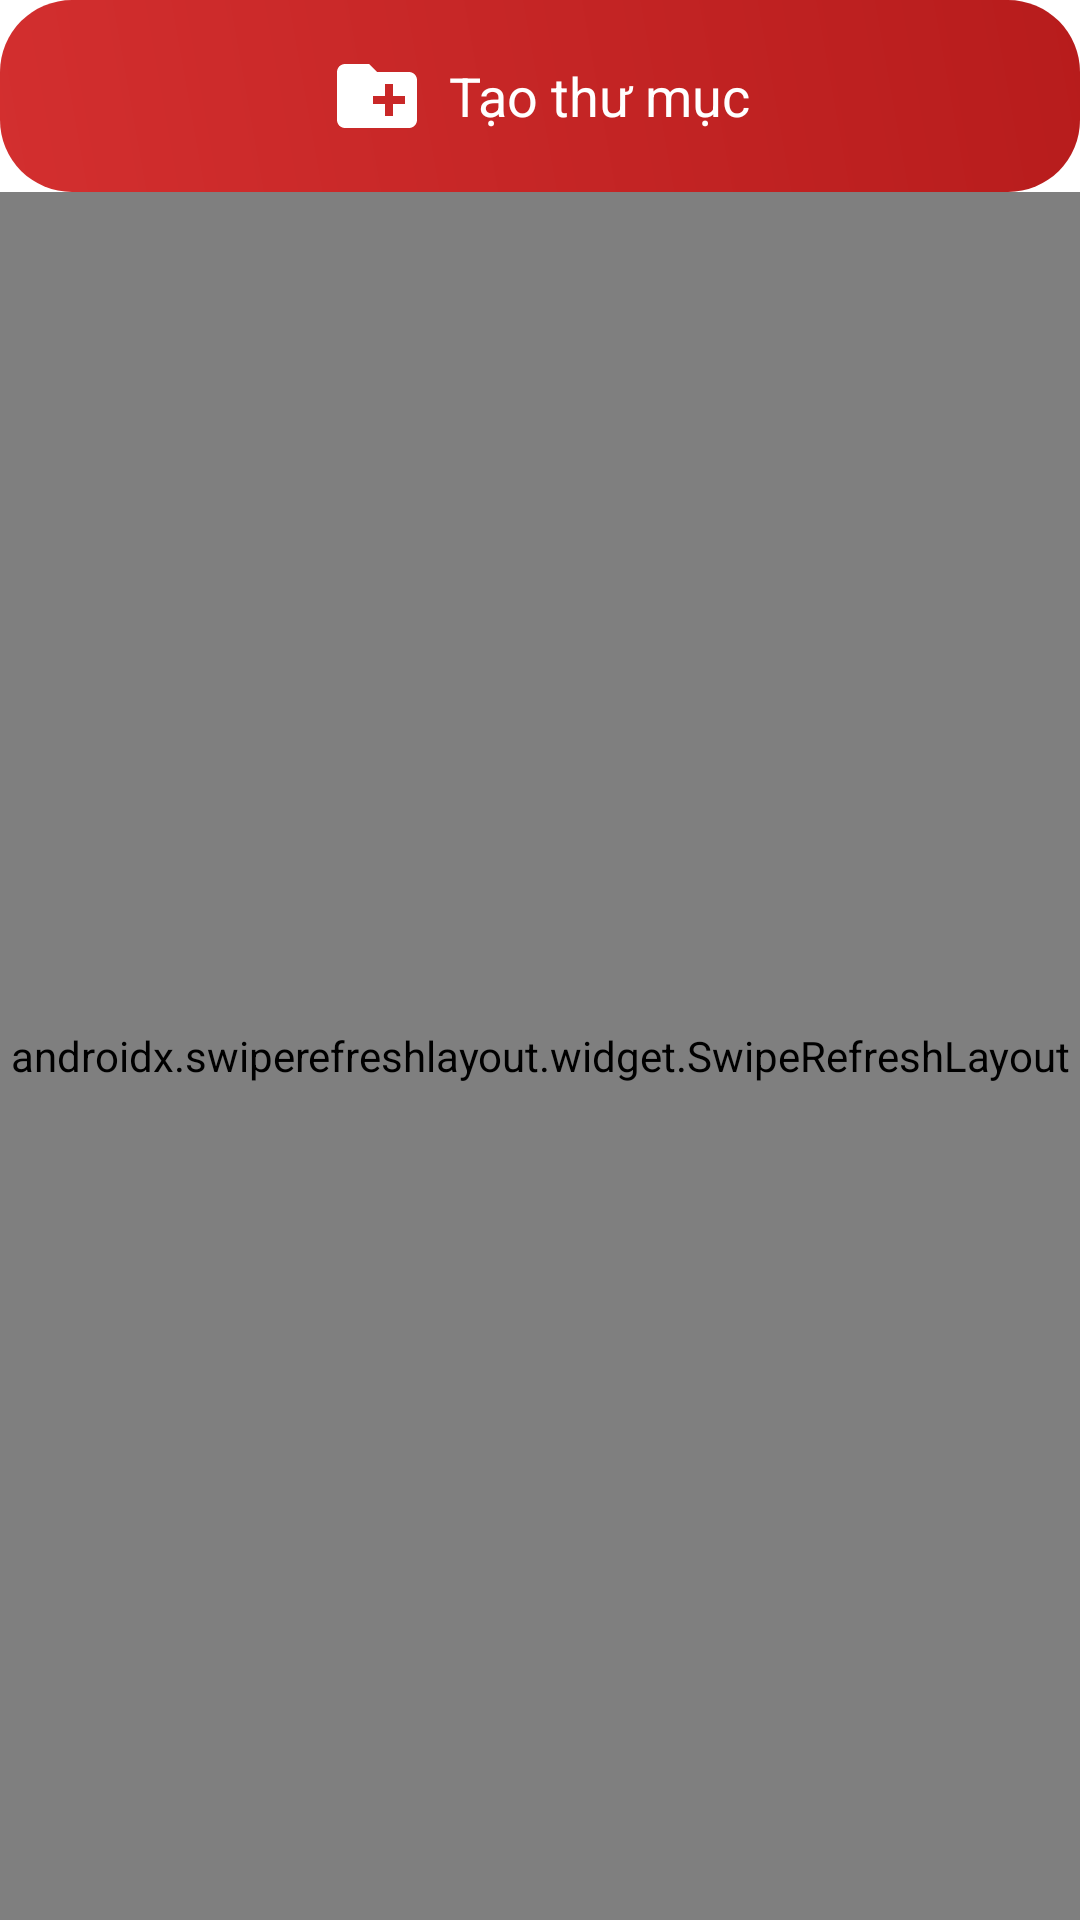

Where icons sit on this 1080 × 1920 app screen, as bbox=(x1, y1, x2, y2):
add folder: bbox=(337, 64, 417, 128)
